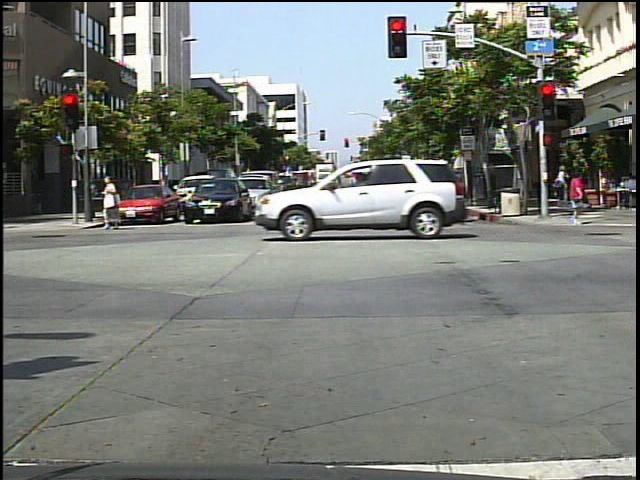person: (559, 170, 592, 231), (98, 172, 129, 236), (550, 160, 570, 211)
